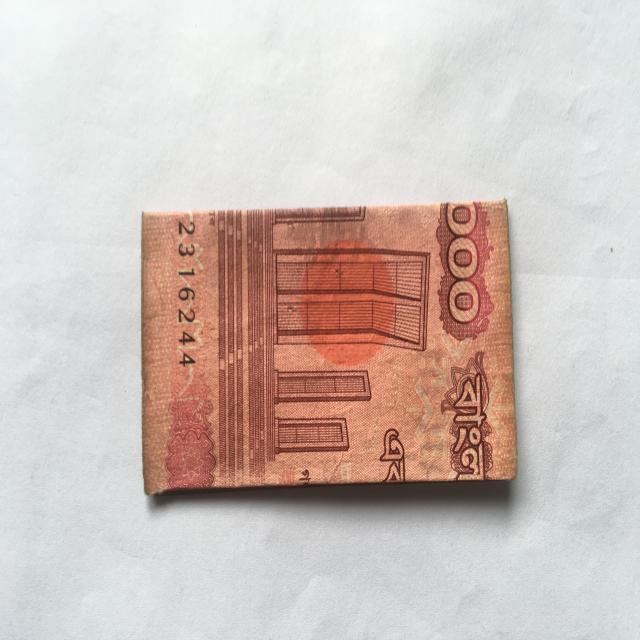Taka: (134, 203, 512, 475)
